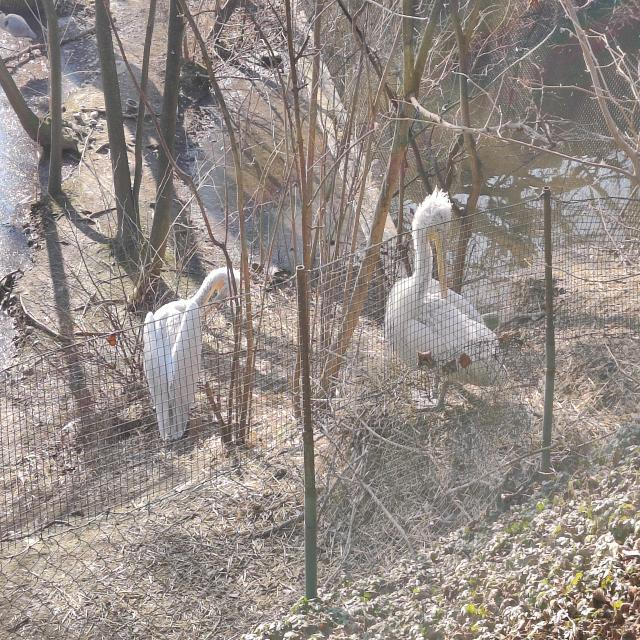bird: (386, 185, 500, 412), (143, 267, 240, 442)
